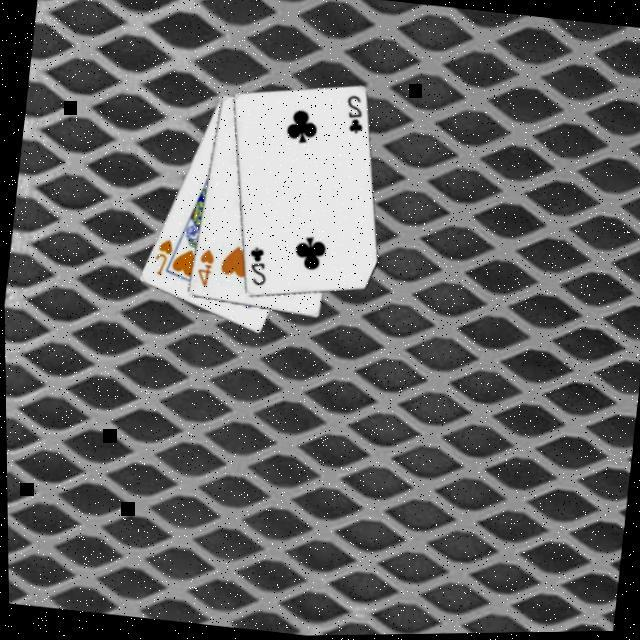2C: (243, 242, 273, 289), (341, 91, 371, 137)
4H: (193, 245, 219, 289)
JH: (150, 234, 178, 278)
